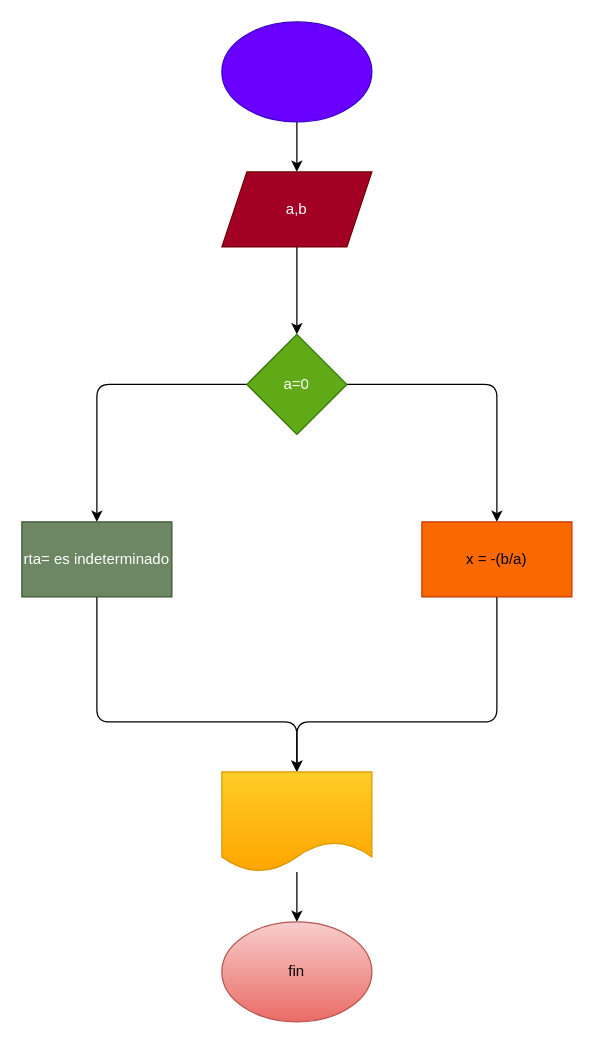
Some shapes in this 594 by 1044 pixel diagram are drawn without their labels. Here are the shapes that lost their labels. From the top down, the box of each, then its label:
(221, 21, 372, 122): inicio
(221, 771, 372, 872): rta
